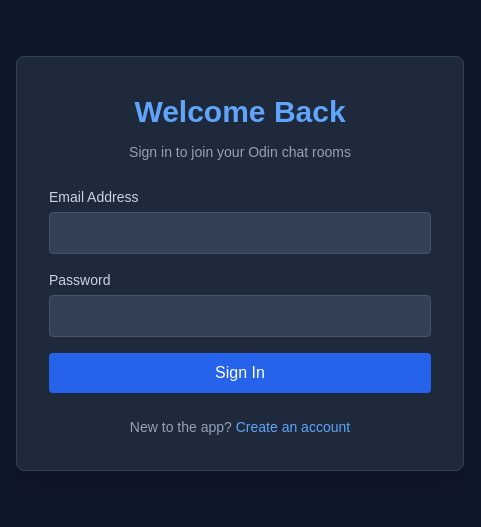
LoginPage Component - Integration Suite › should intercept invalid HTML content type responses cleanly without crashing the frame
Type "crash@odin.com" into the field labelled "Email Address" at coordinates (240, 232), box [49, 212, 431, 254]
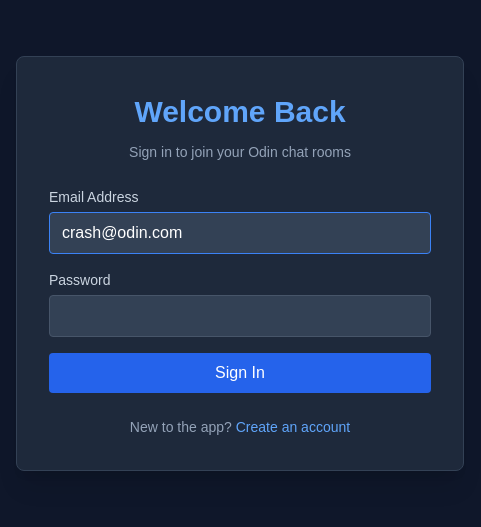
Type "crash123" into the password field labelled "Password" at coordinates (240, 316), box [49, 294, 431, 336]
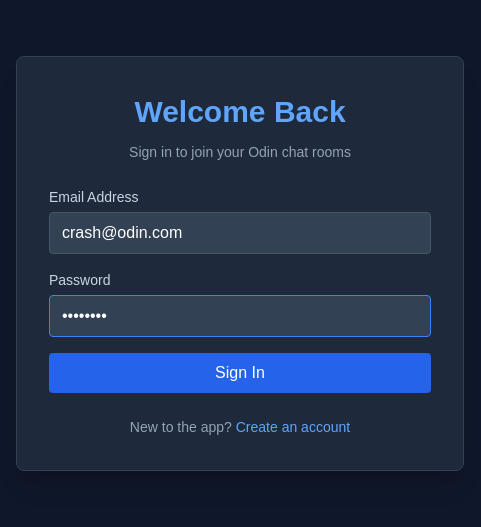
Click the button "Sign In" at coordinates (240, 372), box [49, 352, 431, 392]
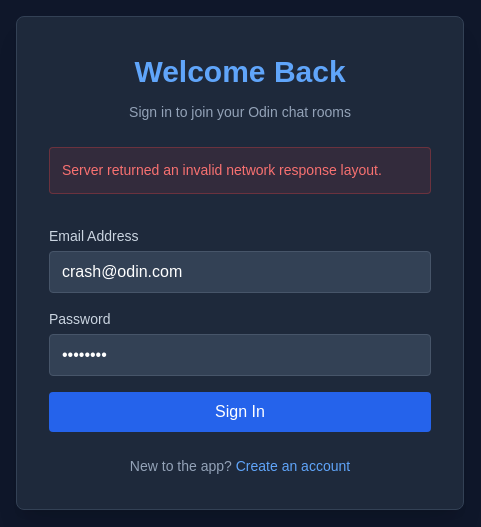
Expected: the message reads "Server returned an invalid network response layout.", [62, 162, 382, 178]
